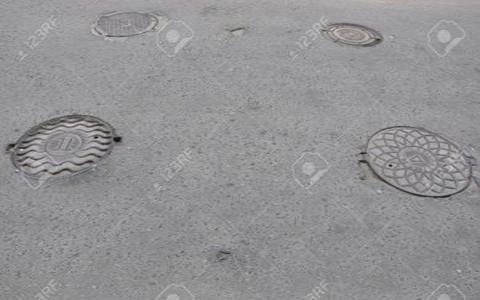proper manhole: (349, 115, 474, 207), (20, 101, 119, 191), (78, 1, 159, 44), (316, 14, 386, 50)
